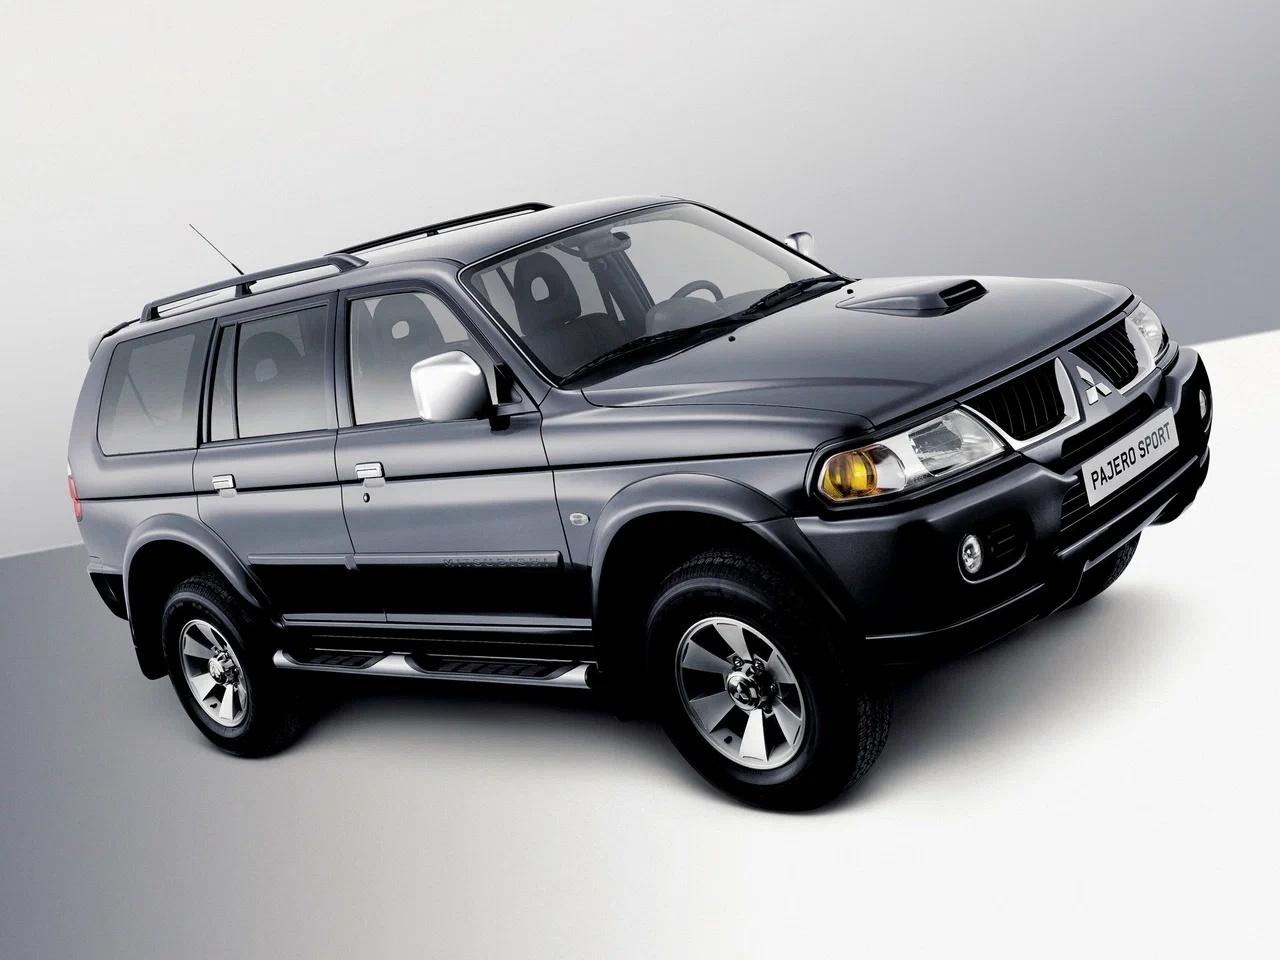00 Krupnie detali. bamper zadniy: (89, 573, 125, 619)
01 Krupnie detali. bamper peredniy: (793, 294, 1214, 662)
03 Krupnie detali. dver zadnyaya pravaya: (194, 288, 388, 644)
05 Krupnie detali. dver perednyaya pravaya: (339, 279, 592, 647)
06 Krupnie detali. kapot: (581, 276, 1131, 424)
07 Krupnie detali. koleso: (646, 539, 888, 808), (162, 573, 312, 753)
09 Krupnie detali. krylo zadnee pravoe: (70, 338, 201, 574)
11 Krupnie detali. krylo perednee pravoe: (540, 387, 872, 601)
12 Krupnie detali. krysha: (91, 195, 688, 400)
14 Krupnie detali. lobovoe steklo: (460, 203, 838, 385)
16 Melkie detali. antenna: (189, 225, 245, 273)
17 Melkie detali. bolty krepleniya diska kolesa: (762, 706, 772, 713), (754, 663, 765, 669), (214, 647, 222, 654), (768, 684, 777, 690), (735, 659, 743, 666), (233, 668, 240, 674), (232, 680, 240, 685), (225, 650, 230, 657)
20 Melkie detali. kryshka bokovogo zerkala levaya: (783, 230, 813, 258)
21 Melkie detali. kryshka bokovogo zerkala pravaya: (410, 351, 509, 432)
22 Melkie detali. levoe shchetka stekloochistitelya lobovogo stekla: (747, 276, 809, 310)
23 Melkie detali. levyy povodok stekloochistitelya lobovogo stekla: (805, 272, 834, 285)
29 Melkie detali. povtoritel: (566, 513, 592, 524)
30 Melkie detali. pravaya shchetka stekloochistitelya lobovogo stekla: (564, 346, 631, 378)
31 Melkie detali. pravyy povodok stekloochistitelya lobovogo stekla: (630, 334, 659, 350)
32 Melkie detali. PTF levyy: (965, 536, 983, 578)
33 Melkie detali. PTF pravyy: (1199, 389, 1207, 425)
35 Melkie detali. ruchka dveri: (355, 463, 383, 480), (212, 476, 236, 487)
39 Melkie detali. emblema: (1058, 353, 1118, 410)
44 Srednie detali. bryzgovik peredniy levyy: (727, 332, 737, 341)
45 Srednie detali. bryzgovik peredniy pravyy: (844, 285, 857, 299)
52 Srednie detali. nakladka na porog pravyy: (277, 644, 600, 687)
56 Srednie detali. podkrylok zadniy pravyy: (125, 516, 297, 678)
58 Srednie detali. podkrylok peredniy pravyy: (591, 476, 864, 649)
59 Srednie detali. ramka gosnomera: (1081, 409, 1178, 506)
60 Srednie detali. reshetka bampera centralnaya: (1056, 412, 1191, 544)
61 Srednie detali. reshetka perednego bampera pod PTF levaya: (984, 520, 1024, 567)
63 Srednie detali. reshetka radiatora: (967, 358, 1076, 448), (1073, 320, 1152, 390)
66 Srednie detali. steklo zadney dveri pravoye: (96, 319, 215, 453), (238, 306, 330, 438)
67 Srednie detali. steklo zadney dveri pravoye (fortochka): (211, 324, 235, 441)
69 Srednie detali. steklo peredney dveri pravoye: (352, 291, 501, 426)
70 Srednie detali. fara perednyaya levaya: (818, 410, 1008, 504)
71 Srednie detali. fara perednyaya pravaya: (1131, 303, 1165, 358)
73 Srednie detali. fonar zadniy pravyy: (67, 460, 83, 522)
